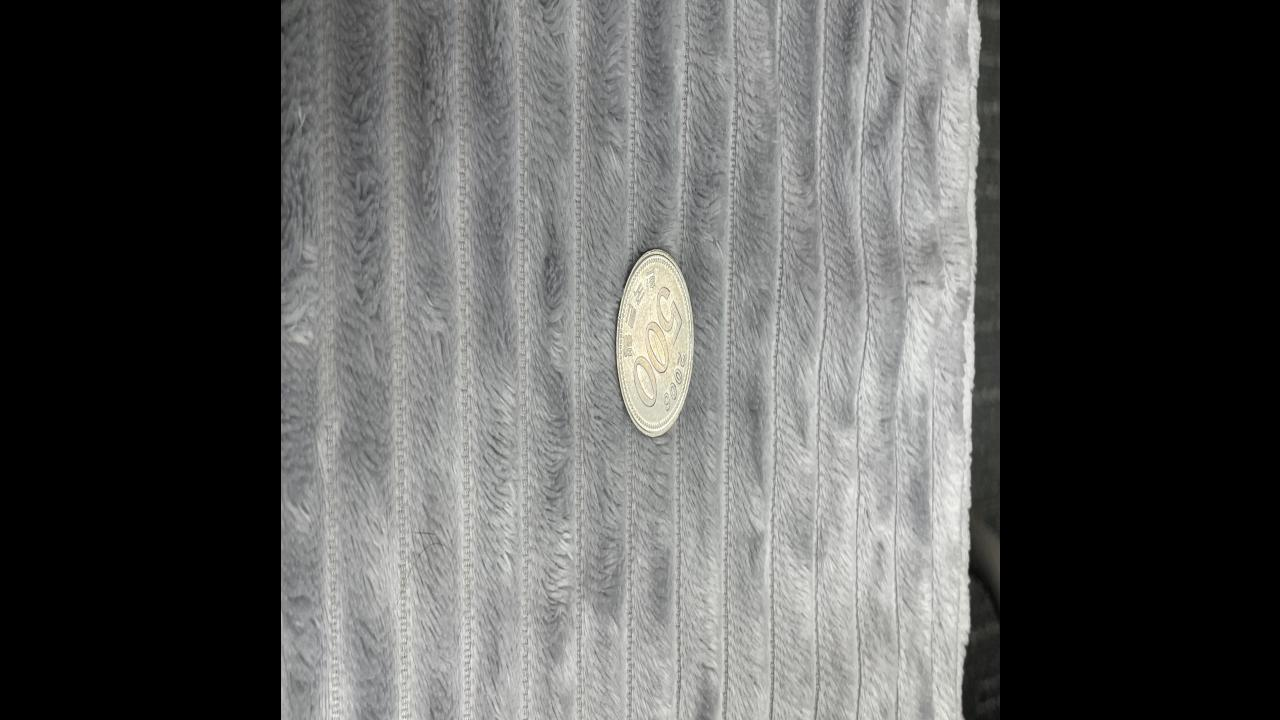coin: (615, 249, 693, 440)
